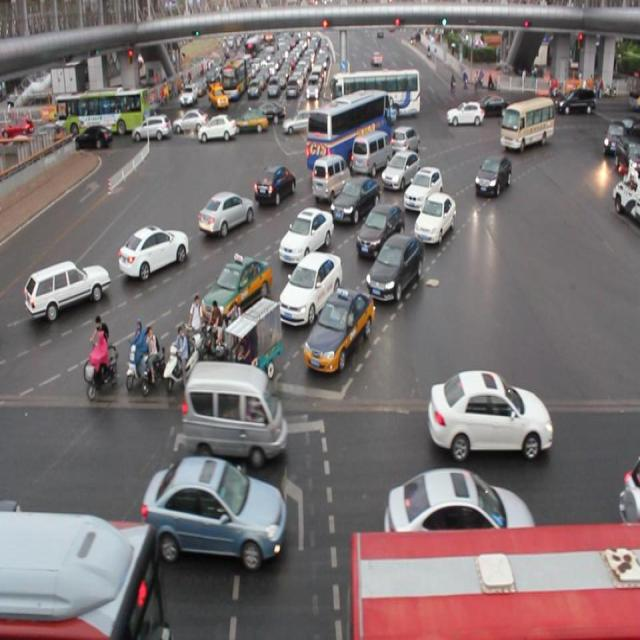car: (142, 457, 286, 568), (384, 464, 534, 554), (429, 368, 551, 463), (300, 294, 372, 378), (199, 254, 272, 336), (24, 260, 109, 322), (277, 252, 342, 328), (363, 231, 424, 306), (117, 225, 187, 282), (277, 210, 333, 266), (198, 193, 254, 242), (354, 207, 403, 259), (329, 176, 379, 226), (412, 193, 455, 246), (253, 168, 297, 208), (402, 166, 444, 207), (381, 148, 420, 190), (473, 157, 511, 196), (390, 127, 418, 161)
truck: (184, 358, 288, 468), (500, 95, 553, 149), (350, 134, 391, 178), (312, 154, 350, 198)
van: (349, 519, 640, 640), (0, 508, 166, 640), (306, 92, 392, 179)
